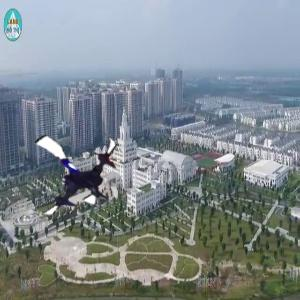drone: (16, 118, 126, 228)
